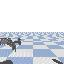drone: (0, 37, 20, 51)
